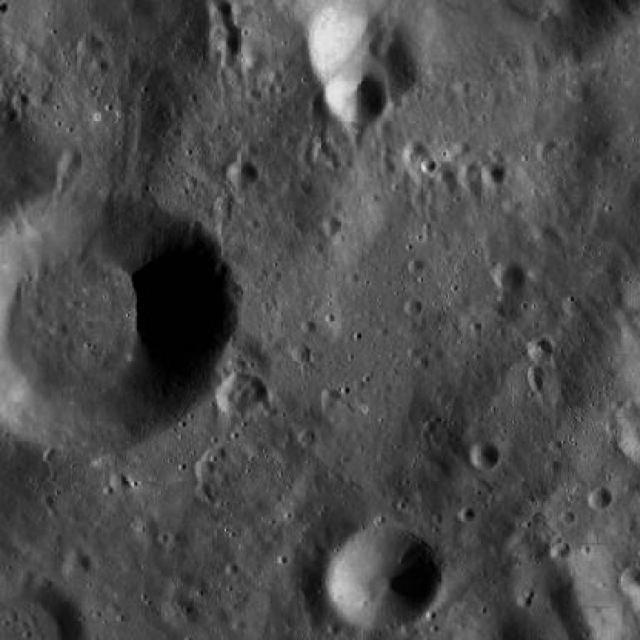crater: (0, 185, 232, 460), (0, 0, 218, 157), (307, 0, 421, 106), (328, 526, 438, 634), (512, 562, 578, 628), (327, 66, 387, 126), (263, 546, 323, 606), (215, 370, 263, 418), (492, 260, 526, 294), (165, 595, 198, 628), (240, 44, 271, 74), (228, 161, 258, 190), (470, 442, 499, 471), (216, 27, 244, 55), (62, 550, 90, 578), (132, 513, 160, 541), (208, 0, 234, 26), (77, 32, 103, 58), (59, 148, 85, 174), (527, 337, 553, 363), (536, 222, 562, 248), (615, 401, 640, 427), (166, 572, 192, 597), (588, 486, 612, 512), (482, 163, 504, 186), (404, 136, 426, 158), (90, 56, 110, 76), (323, 214, 343, 234), (291, 342, 311, 362), (220, 50, 240, 70), (298, 146, 318, 166), (502, 193, 522, 213), (194, 458, 213, 477), (536, 136, 555, 155), (550, 540, 570, 558), (614, 308, 634, 326), (227, 357, 246, 375), (48, 319, 66, 338), (460, 158, 478, 176), (404, 298, 422, 316), (12, 94, 30, 111), (420, 157, 438, 174), (322, 387, 340, 404), (298, 429, 316, 446), (215, 196, 232, 213), (436, 169, 453, 186), (408, 258, 424, 276), (112, 472, 128, 490), (461, 505, 476, 521), (196, 483, 210, 499)
